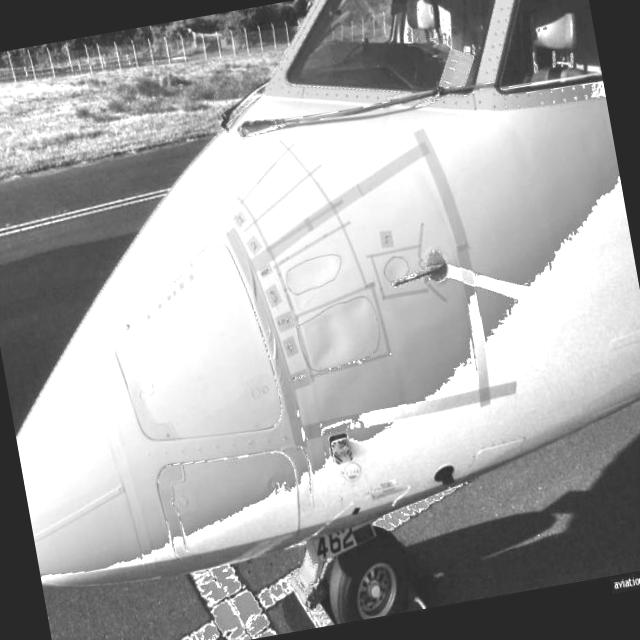dent: (299, 294, 377, 372)
